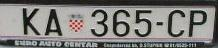-: (156, 21, 164, 28)
3: (89, 8, 109, 40)
5: (133, 8, 153, 39)
6: (111, 8, 132, 39)
A: (44, 6, 64, 38)
C: (167, 8, 186, 38)
K: (22, 5, 42, 37)
P: (188, 8, 208, 40)
